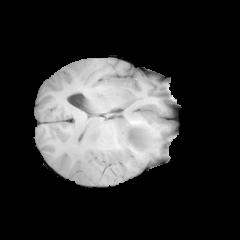glioma: (106, 107, 175, 158)
